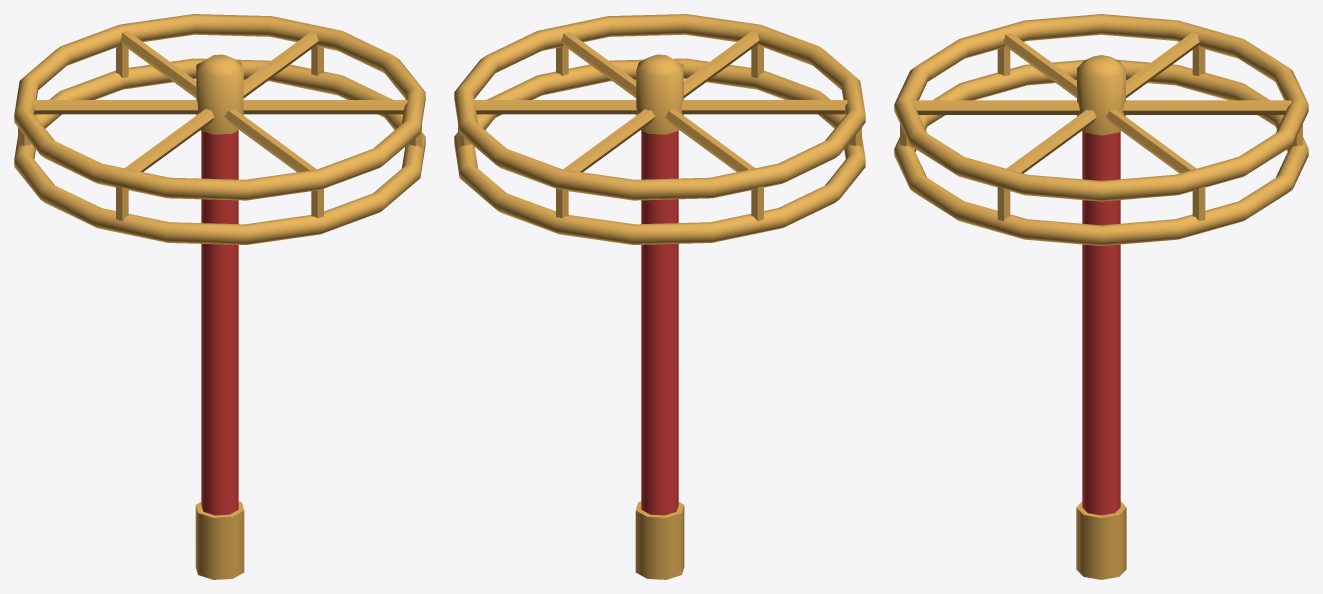
The model's file is Roundabout_03.fbx.
3 renders of one model, left to right at view 1: azimuth 30°, elevation 25°; view 2: azimuth 150°, elevation 25°; view 3: azimuth 270°, elevation 25°, orthographic.
Parts seen in each view (by area): view 1: Roundabout_03_Element, Roundabout_03; view 2: Roundabout_03_Element, Roundabout_03; view 3: Roundabout_03_Element, Roundabout_03.
Part boxes in pixels (<box>): Roundabout_03_Element: <box>14,14,425,244</box>; Roundabout_03: <box>195,54,244,579</box>; Roundabout_03_Element: <box>454,14,865,244</box>; Roundabout_03: <box>635,54,684,579</box>; Roundabout_03_Element: <box>894,14,1308,245</box>; Roundabout_03: <box>1076,55,1126,579</box>.
Size of the model in its own units: 1.86 by 2.53 by 1.86.
